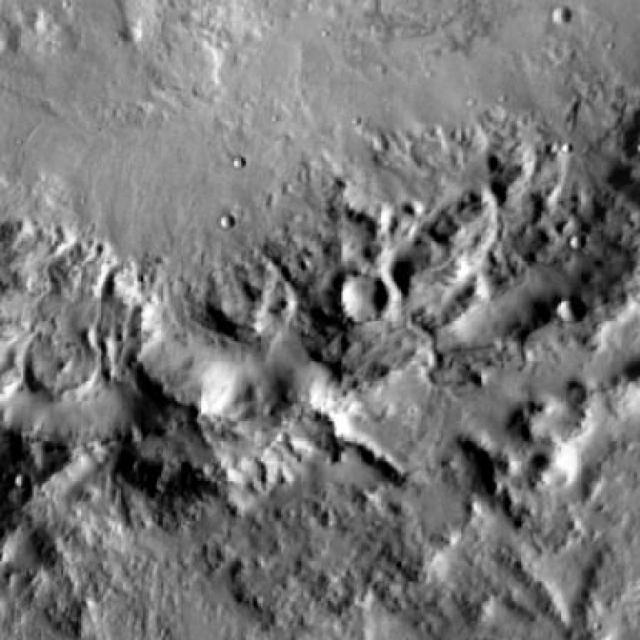crater: (341, 269, 392, 317), (560, 295, 586, 320), (556, 8, 576, 26)
